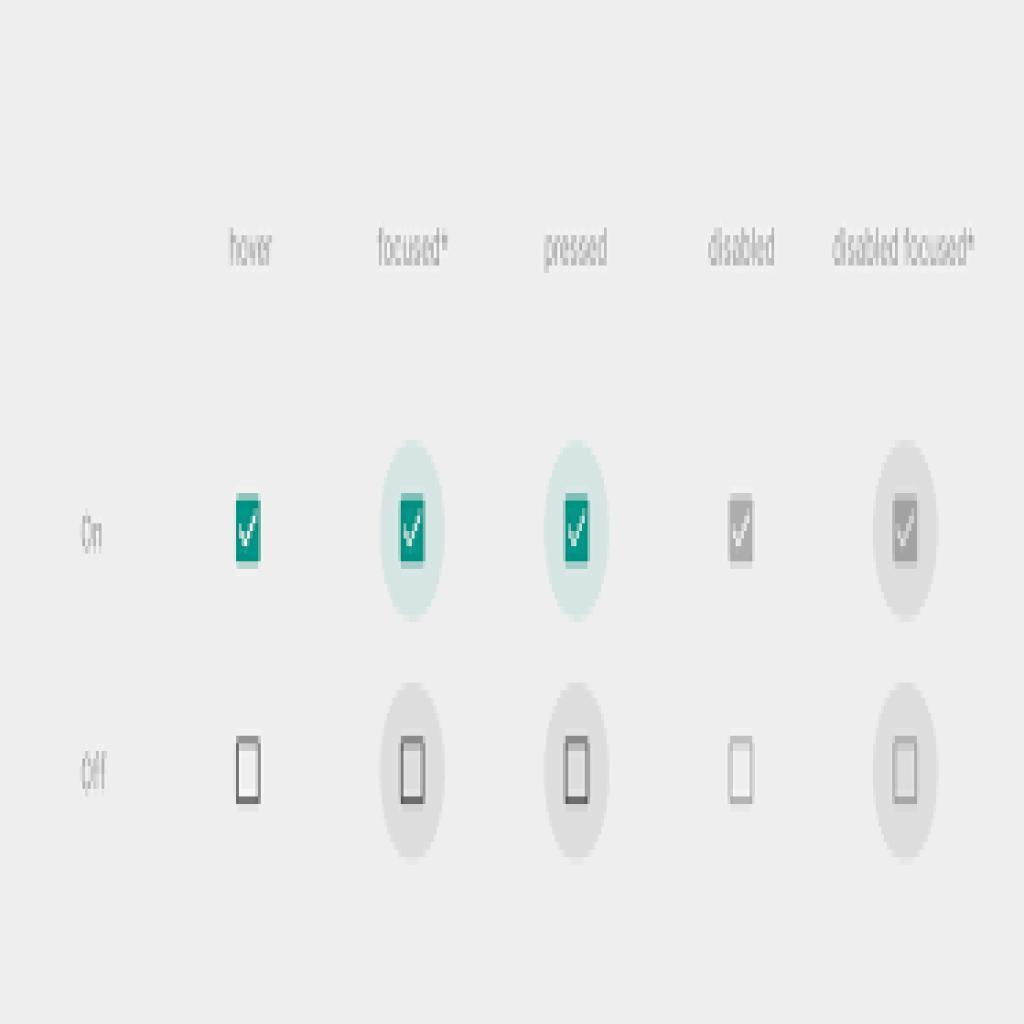checkbox: (563, 494, 593, 568), (400, 493, 429, 567), (235, 494, 264, 567), (892, 735, 920, 809), (892, 492, 918, 567), (727, 495, 754, 567), (565, 735, 591, 807), (401, 735, 427, 803), (237, 735, 262, 804), (730, 737, 755, 806)
